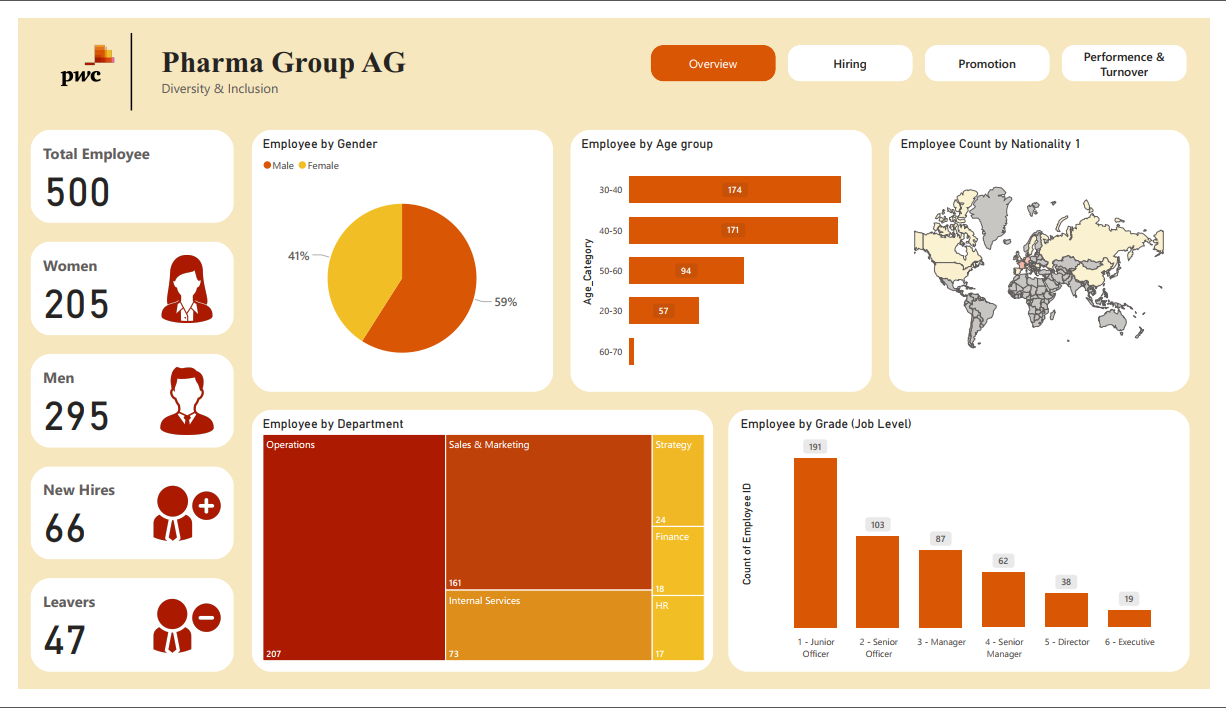

What the dashboard file says about the page in this screenshot:
{"tool":"powerbi","page":{"name":"Overview","canvas":[1600,900],"ordinal":0},"visuals":[{"type":"shape","box":[1169.8,148.8,404.7,352.3],"z":0},{"type":"shape","box":[17.4,450,272.1,125.6],"z":1000},{"type":"shape","box":[17.4,299.4,272.1,125.6],"z":2000},{"type":"shape","box":[17.4,148.8,272.1,125.6],"z":3000},{"type":"shape","box":[954.2,525.1,620.1,352],"z":4000},{"type":"shape","box":[314,148.8,405,352.3],"z":5000},{"type":"shape","box":[314,525.1,620,352],"z":6000},{"type":"shape","box":[741.9,148.8,405,352.3],"z":7000},{"type":"image","box":[33.8,8.8,120,106.2],"z":8000},{"type":"textbox","title":"Pharma Group AG","box":[188.4,34.9,345.3,70.9],"z":9000},{"type":"shape","box":[102.3,18.6,101.2,104.7],"z":10000},{"type":"cardVisual","fields":{"Data":["CountNonNull(Backing 1.Employee ID)"]},"box":[17.4,148.8,272.1,125.6],"z":11000},{"type":"pieChart","title":"Employee by Gender","fields":{"Category":["Backing 1.GENDER"],"Y":["CountNonNull(Backing 1.Employee ID)"]},"box":[324.4,157,383.7,334.9],"z":12000},{"type":"cardVisual","fields":{"Data":["Measures Table.Female employees"]},"box":[17.4,300,272.1,125.6],"z":13000},{"type":"cardVisual","fields":{"Data":["Measures Table.Male employees"]},"box":[17.4,450,272.1,125.6],"z":14000},{"type":"barChart","title":"Employee by Age group","fields":{"Category":["Backing 1.Age_Category"],"Y":["CountNonNull(Backing 1.Employee ID)"]},"box":[752.3,158.1,386,334.9],"z":15000},{"type":"shape","box":[17.4,600.6,272.1,125.6],"z":16000},{"type":"shape","box":[17.4,751.2,272.1,125.6],"z":17000},{"type":"cardVisual","fields":{"Data":["Measures Table.New hire FY20"]},"box":[17.4,601.2,272.1,125.6],"z":18000},{"type":"cardVisual","fields":{"Data":["Measures Table.FY20 leaver"]},"box":[17.4,751.2,272.1,125.6],"z":19000},{"type":"shapeMap","title":"Employee Count by Nationality 1 ","fields":{"Category":["Backing 1.Nationality"],"Value":["CountNonNull(Backing 1.Employee ID)"]},"box":[1181.4,157,380.2,334.9],"z":20000},{"type":"treemap","title":"Employee  by Department","fields":{"Group":["Backing 1.FUNCTION"],"Values":["CountNonNull(Backing 1.Employee ID)"]},"box":[324,534.1,603.4,333],"z":21000},{"type":"clusteredColumnChart","title":"Employee by Grade (Job Level)","fields":{"Category":["Backing 1.GRADE"],"Y":["CountNonNull(Backing 1.Employee ID)"]},"box":[966.5,534.1,595.5,334.1],"z":22000},{"type":"pageNavigator","box":[849.6,34.8,723.6,49.6],"z":23000}]}

Visuals, with their boxes in screenshot pixels (x1, y1, x2, y2), scaled from the page's 1600x900 canvas onto the 1226x708 screenshot:
shape: left=896, top=117, right=1206, bottom=394
shape: left=13, top=354, right=222, bottom=453
shape: left=13, top=236, right=222, bottom=334
shape: left=13, top=117, right=222, bottom=216
shape: left=731, top=413, right=1206, bottom=690
shape: left=241, top=117, right=551, bottom=394
shape: left=241, top=413, right=716, bottom=690
shape: left=568, top=117, right=879, bottom=394
image: left=26, top=7, right=118, bottom=90
"Pharma Group AG" textbox: left=144, top=27, right=409, bottom=83
shape: left=78, top=15, right=156, bottom=97
cardVisual - CountNonNull(Backing 1.Employee ID): left=13, top=117, right=222, bottom=216
"Employee by Gender" pieChart: left=249, top=124, right=543, bottom=387
cardVisual - Measures Table.Female employees: left=13, top=236, right=222, bottom=335
cardVisual - Measures Table.Male employees: left=13, top=354, right=222, bottom=453
"Employee by Age group" barChart: left=576, top=124, right=872, bottom=388
shape: left=13, top=472, right=222, bottom=571
shape: left=13, top=591, right=222, bottom=690
cardVisual - Measures Table.New hire FY20: left=13, top=473, right=222, bottom=572
cardVisual - Measures Table.FY20 leaver: left=13, top=591, right=222, bottom=690
"Employee Count by Nationality 1 " shapeMap: left=905, top=124, right=1197, bottom=387
"Employee  by Department" treemap: left=248, top=420, right=711, bottom=682
"Employee by Grade (Job Level)" clusteredColumnChart: left=741, top=420, right=1197, bottom=683
pageNavigator: left=651, top=27, right=1205, bottom=66
